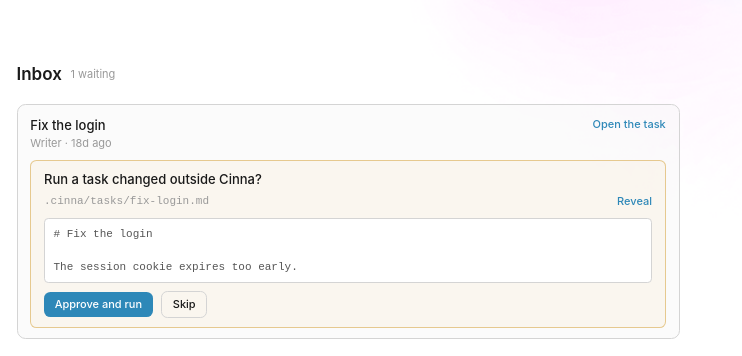
Test: the outside-content approval › says when an approved task it could not start will run ({"reason":"live_turn","mode":"manual"})
The width and height of the screenshot is (742, 356).
Expected: the element "Run a task changed outside Cinna?" is shown, [16, 104, 680, 339]
What coordinates should you click on to do the following:
click the button "Approve and run"
I would click on:
 (98, 305)
Its box is [44, 292, 153, 317].
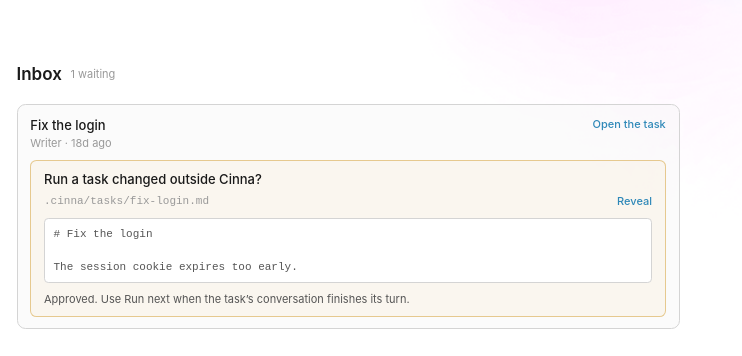
Expected: the message reads "Approved. Use Run next when the task’s conversation finishes its turn.", [44, 292, 410, 306]
